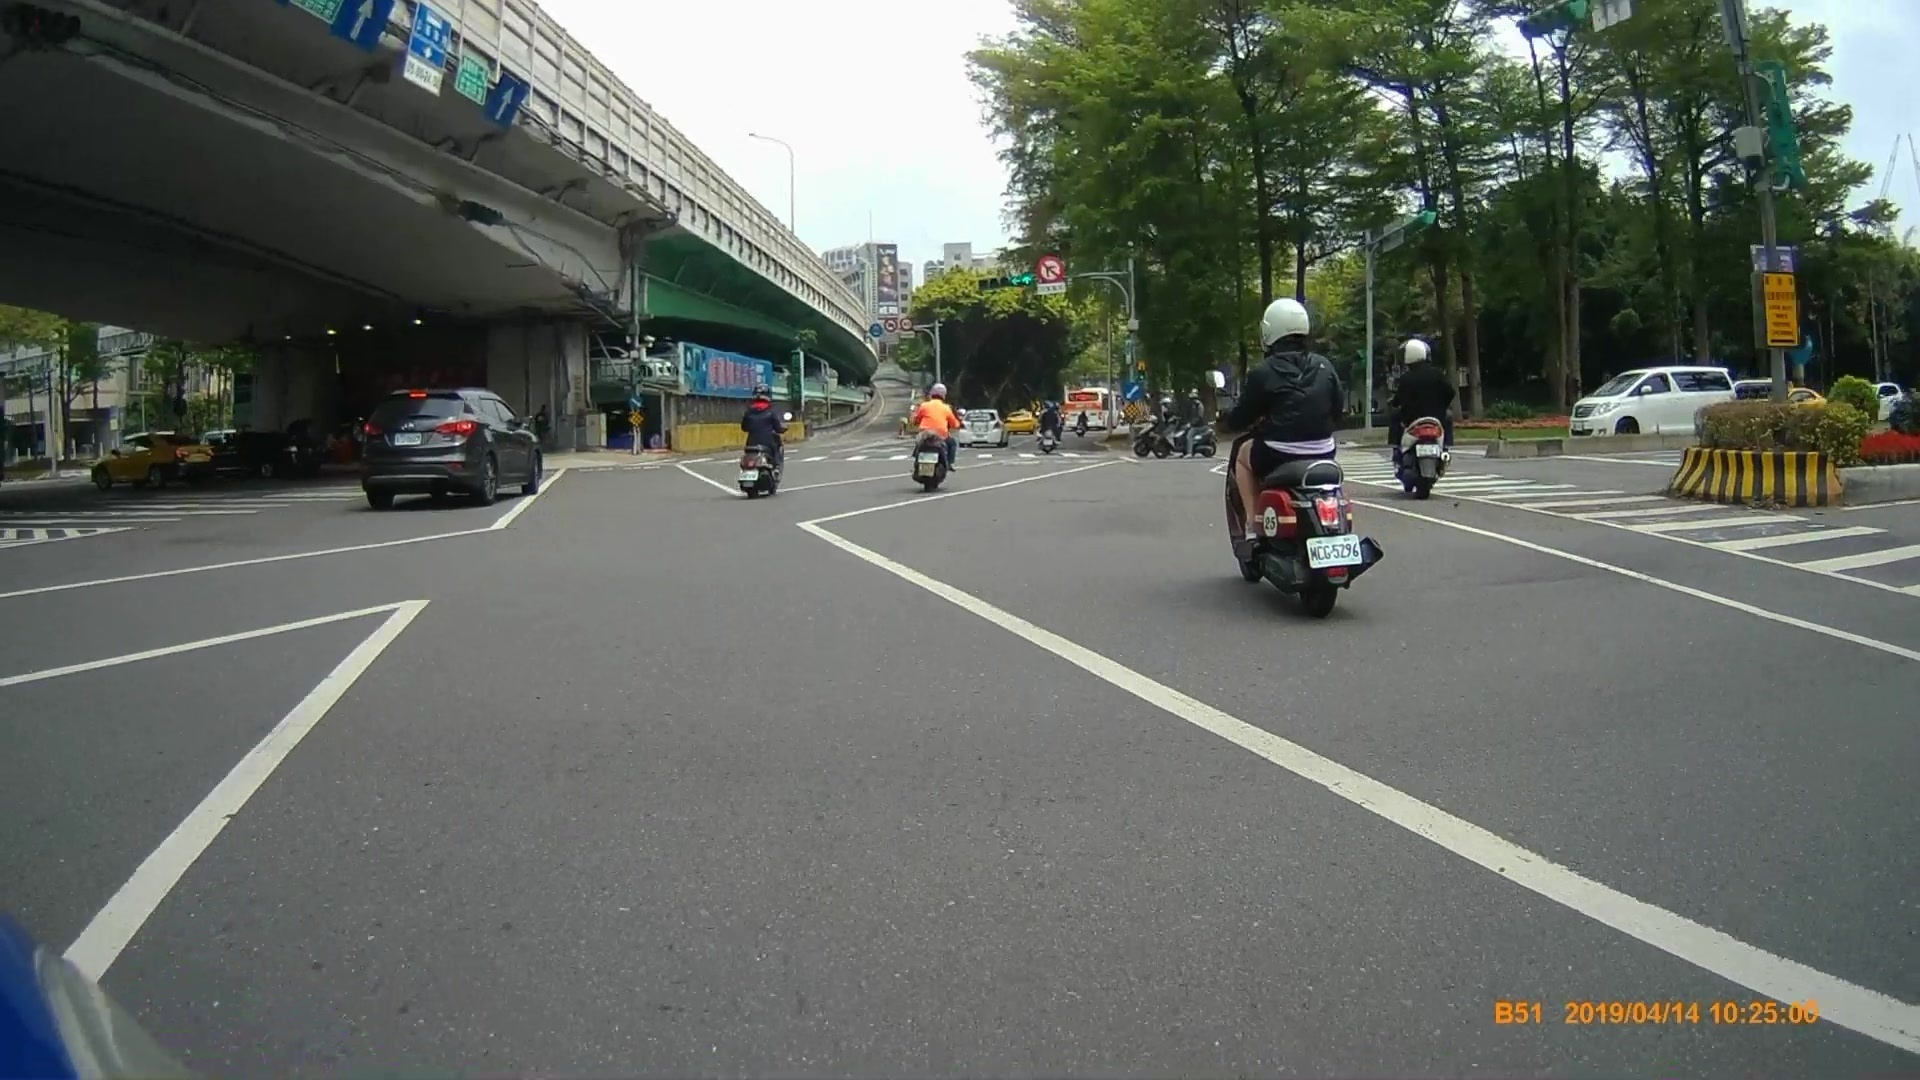License_plate: (1303, 533, 1364, 570)
